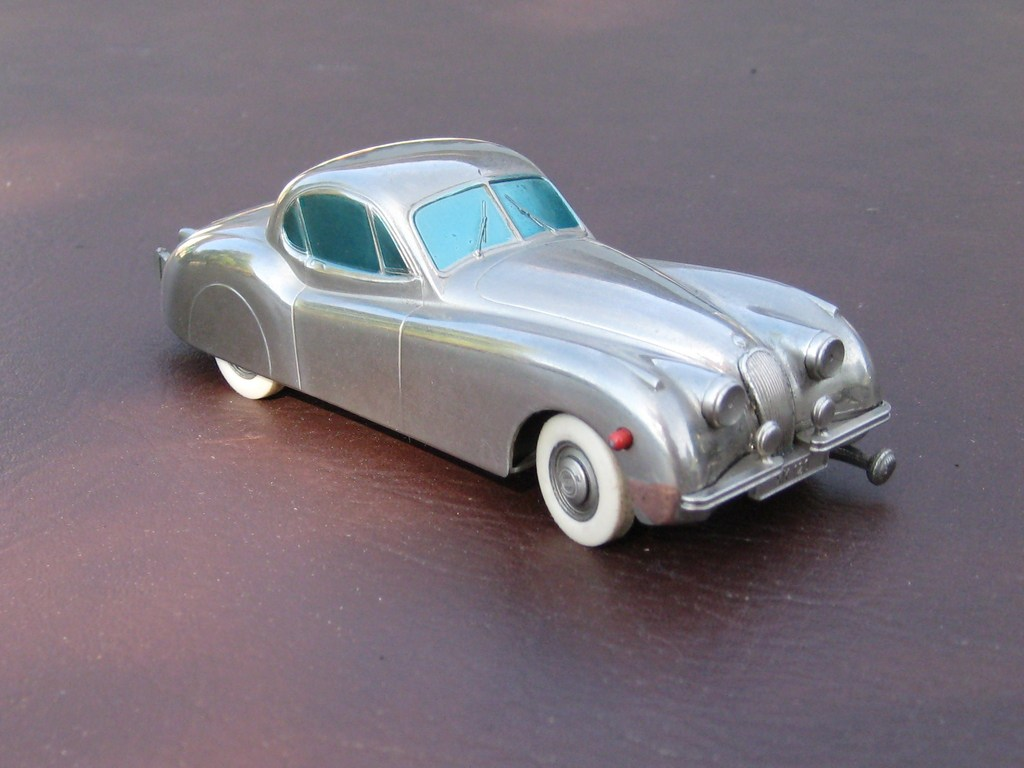cars: (157, 139, 895, 543)
